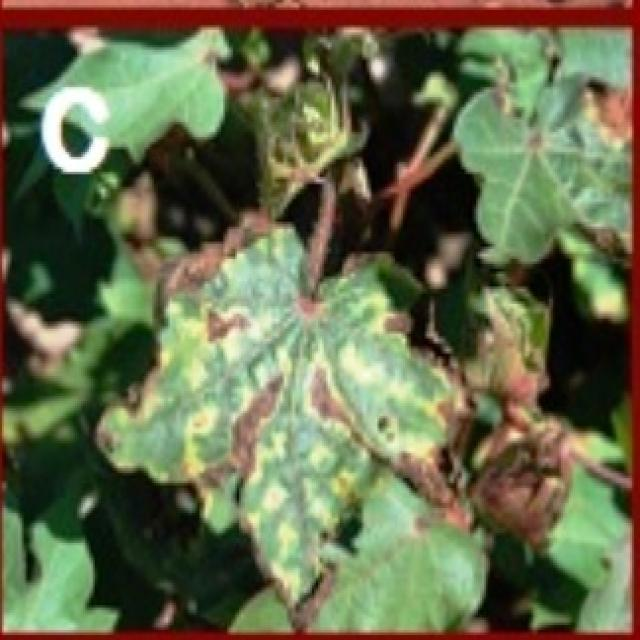Fusarium Wilt: (136, 158, 580, 569)
